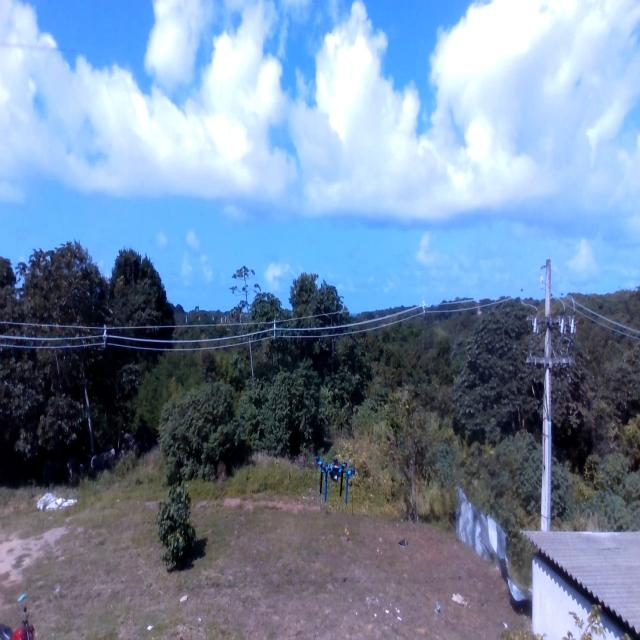-uav-: (310, 450, 358, 514)
